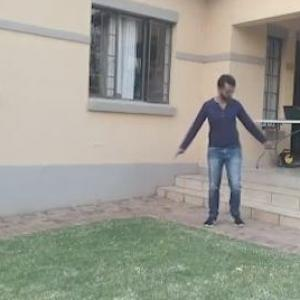land: (175, 72, 272, 226)
